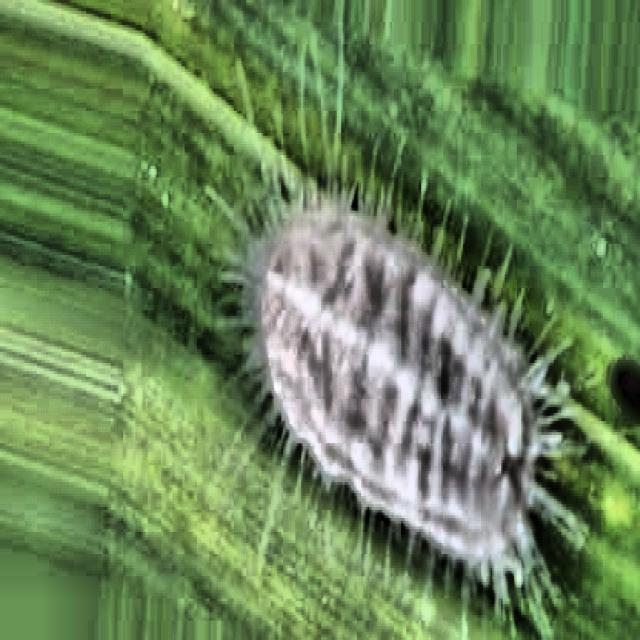Mealy-bug: (182, 138, 621, 640)
